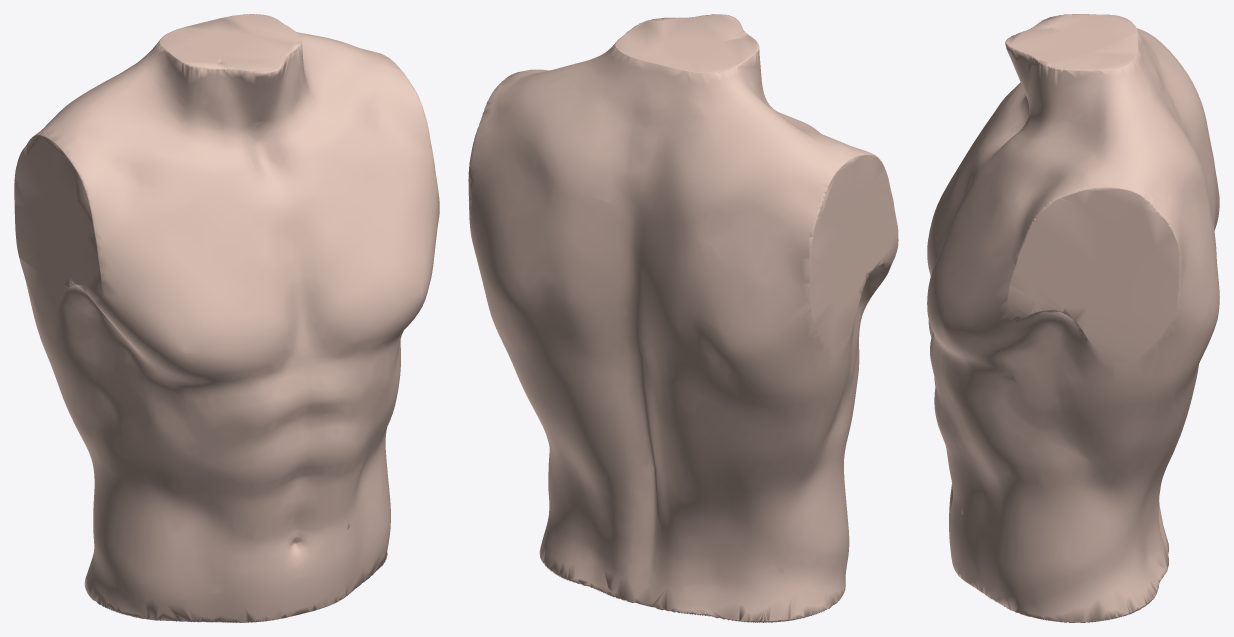
File: torso.glb
3 views of the same model, side by side, from view 1: azimuth 30°, elevation 25°; view 2: azimuth 150°, elevation 25°; view 3: azimuth 270°, elevation 25° (orthographic). The views are drawn at different scales.
Parts seen in each view (by area): view 1: torso; view 2: torso; view 3: torso.
Boxes of the visible parts, <box> form: torso: <box>14,14,439,622</box>; torso: <box>468,14,898,622</box>; torso: <box>927,14,1219,622</box>.
Size of the model in its own units: 3.41 by 5.05 by 2.6.
